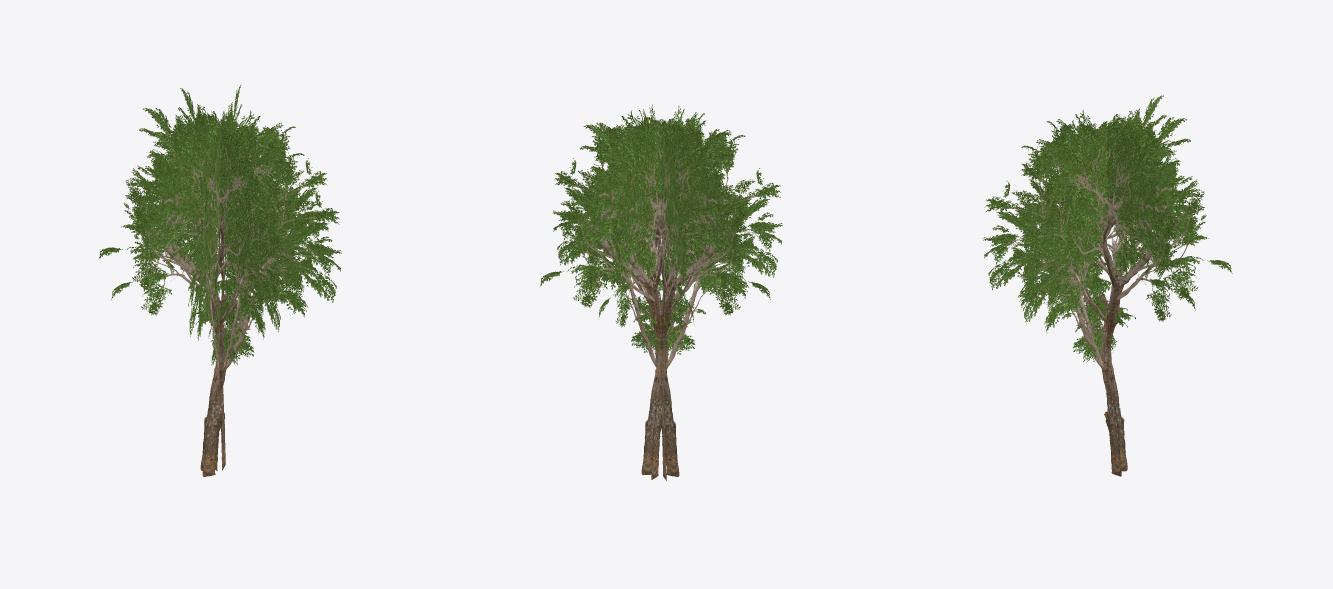
Rendered from tree_small_02-lod1.glb.
3 views of the same model, side by side, from view 1: azimuth 30°, elevation 25°; view 2: azimuth 150°, elevation 25°; view 3: azimuth 270°, elevation 25° (orthographic).
Bounding box in the file's own units: 9.72 × 9.72 × 9.72.
1 material, 1 textured.
